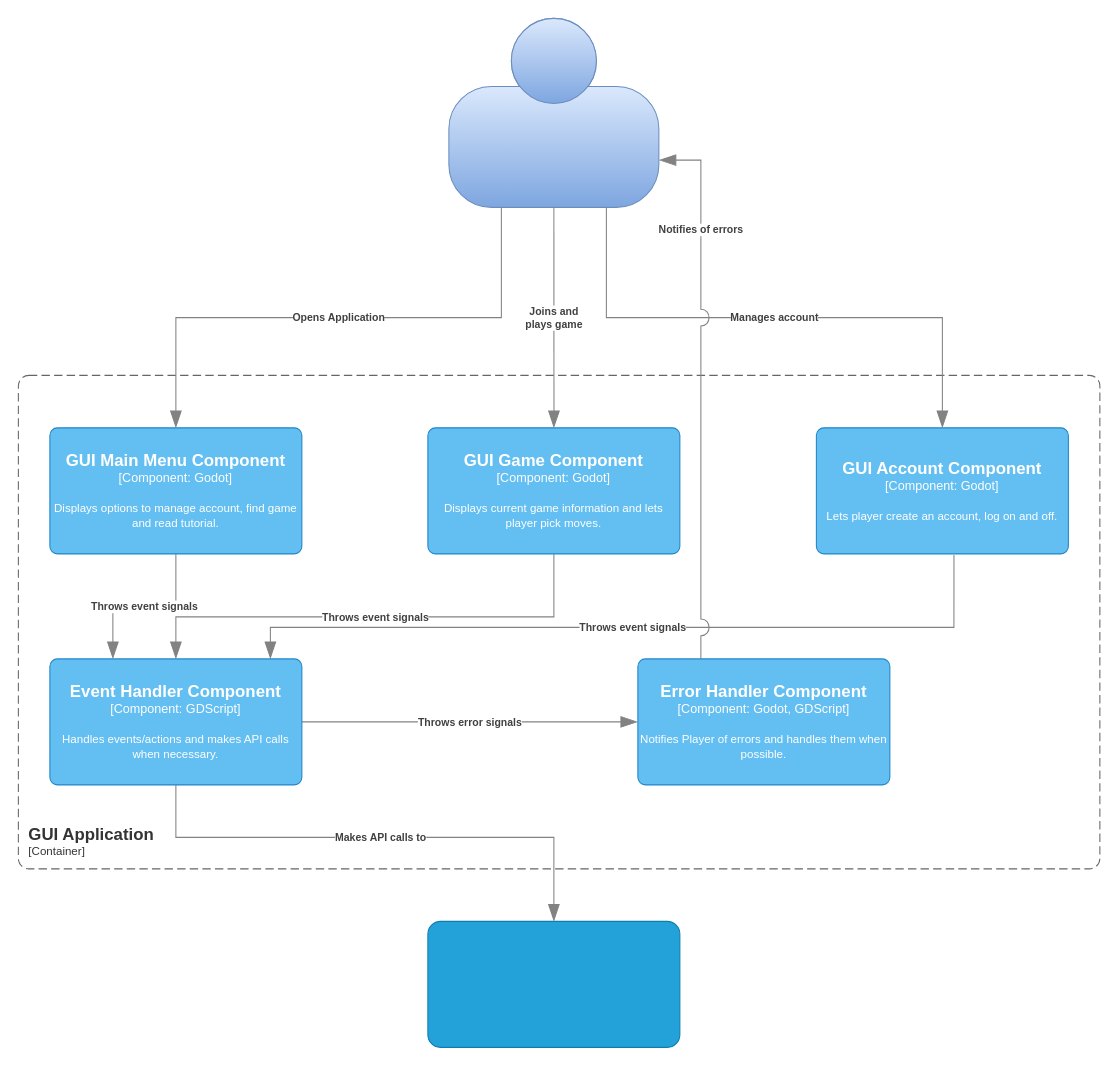
Image size: 1118x1066. Some labels were removed from this diagram. Here are the shapes that lost their labels. From the top down, the centre of each, then its label:
(553,112): Player [Person] A person that plays the game.
(553,983): Game API Application [Container: C++]
